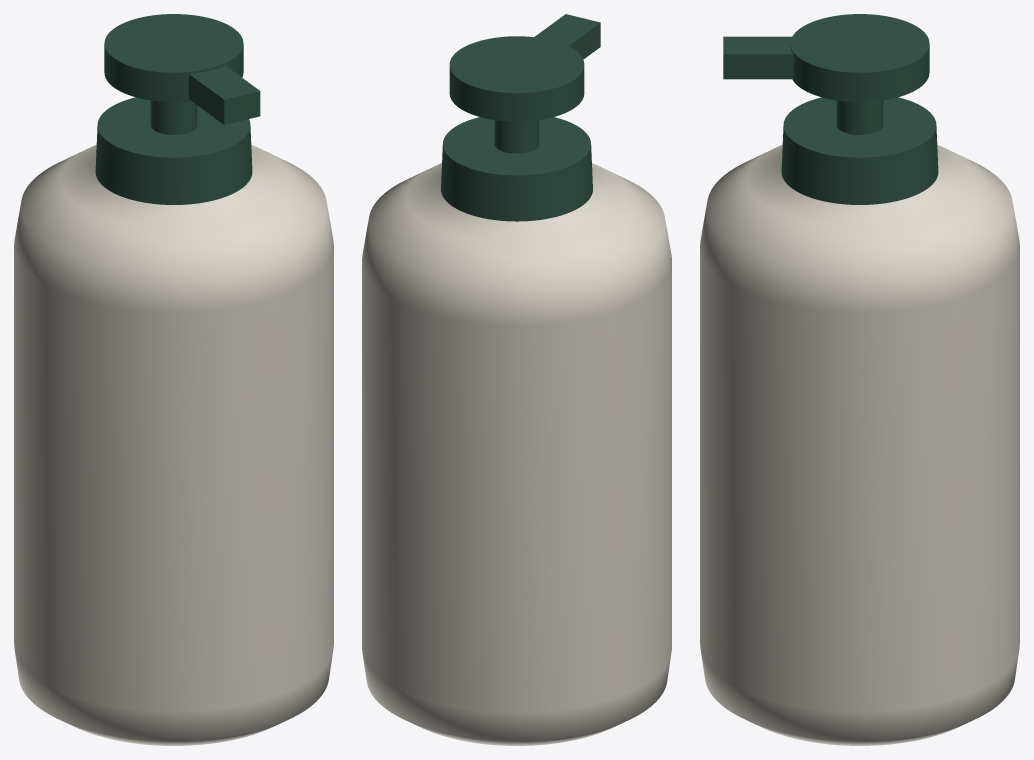
Rendered from sk-lotion-150.glb.
3 views of the same model, side by side, from view 1: azimuth 30°, elevation 25°; view 2: azimuth 150°, elevation 25°; view 3: azimuth 270°, elevation 25° (orthographic). The views are drawn at different scales.
Visible parts, largest first — view 1: Bottle_Body, Pump_Collar, Pump_Head, Pump_Nozzle, Pump_Stem; view 2: Bottle_Body, Pump_Collar, Pump_Head, Pump_Nozzle, Pump_Stem; view 3: Bottle_Body, Pump_Collar, Pump_Head, Pump_Nozzle, Pump_Stem.
Boxes of the visible parts, x1=… form: Bottle_Body: x1=14, y1=145, x2=333, y2=745; Pump_Collar: x1=95, y1=97, x2=252, y2=204; Pump_Head: x1=104, y1=14, x2=243, y2=101; Pump_Nozzle: x1=189, y1=65, x2=260, y2=124; Pump_Stem: x1=150, y1=100, x2=197, y2=134; Bottle_Body: x1=362, y1=163, x2=671, y2=745; Pump_Collar: x1=441, y1=117, x2=592, y2=221; Pump_Head: x1=449, y1=36, x2=584, y2=121; Pump_Nozzle: x1=534, y1=14, x2=600, y2=59; Pump_Stem: x1=494, y1=120, x2=539, y2=153; Bottle_Body: x1=700, y1=145, x2=1019, y2=745; Pump_Collar: x1=781, y1=97, x2=938, y2=204; Pump_Head: x1=790, y1=14, x2=929, y2=101; Pump_Nozzle: x1=723, y1=36, x2=793, y2=79; Pump_Stem: x1=836, y1=100, x2=883, y2=134.
Size of the model in its own units: 1.38 by 3.08 by 1.38.
